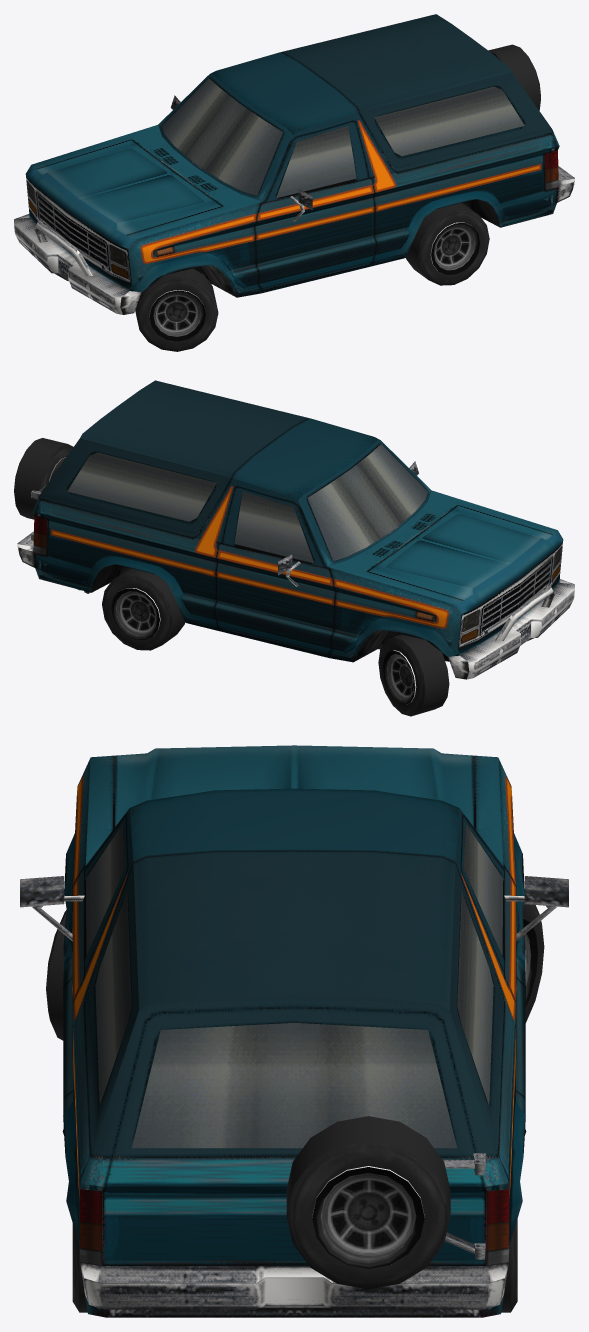
The model's file is vaquero80.glb.
3 renders of one model, top to bottom at view 1: azimuth 30°, elevation 25°; view 2: azimuth 150°, elevation 25°; view 3: azimuth 270°, elevation 25°, orthographic. The views are drawn at different scales.
Parts seen in each view (by area): view 1: body_Vaquero80_body_0, Glass_GT1_Glass_Clean_0, Hood_Vaquero80_body_0, Bumper_Front_Vaquero80_body_0, Wheel_FL_wp_tire_01_dif_0, Wheel_RL_wp_tire_01_dif_0, Wheel_FL_Rim_Sport454_0, Wheel_RL_Rim_Sport454_0, Spare_Wheel_wp_tire_01_dif_0, Bottom_gt1_Bottom_0, Bumper_rear_Vaquero80_body_0; view 2: body_Vaquero80_body_0, Glass_GT1_Glass_Clean_0, Hood_Vaquero80_body_0, Bumper_Front_Vaquero80_body_0, Wheel_FR_wp_tire_01_dif_0, Wheel_RR_wp_tire_01_dif_0, Spare_Wheel_wp_tire_01_dif_0, Wheel_RR_Rim_Sport454_0, Wheel_FR_Rim_Sport454_0, Bottom_gt1_Bottom_0; view 3: body_Vaquero80_body_0, Glass_GT1_Glass_Clean_0, Hood_Vaquero80_body_0, Bumper_rear_Vaquero80_body_0, Spare_Wheel_wp_tire_01_dif_0, Spare_Wheel_Rim_Sport454_0, Wheel_FL_wp_tire_01_dif_0, Brakelights_gt1_headlights_1_0, Wheel_FR_wp_tire_01_dif_0, Wheel_RR_wp_tire_01_dif_0, Wheel_FR_Rim_Sport454_0, Wheel_RL_wp_tire_01_dif_0.
Part boxes in pixels (x1,y1,x2,y2): body_Vaquero80_body_0: [25, 14, 559, 297]; Glass_GT1_Glass_Clean_0: [162, 78, 524, 198]; Hood_Vaquero80_body_0: [28, 139, 221, 245]; Bumper_Front_Vaquero80_body_0: [14, 214, 141, 314]; Wheel_FL_wp_tire_01_dif_0: [135, 268, 218, 351]; Wheel_RL_wp_tire_01_dif_0: [406, 203, 489, 285]; Wheel_FL_Rim_Sport454_0: [149, 290, 205, 341]; Wheel_RL_Rim_Sport454_0: [430, 222, 479, 274]; Spare_Wheel_wp_tire_01_dif_0: [488, 44, 540, 110]; Bottom_gt1_Bottom_0: [193, 199, 500, 297]; Bumper_rear_Vaquero80_body_0: [557, 166, 574, 202]; body_Vaquero80_body_0: [31, 380, 563, 662]; Glass_GT1_Glass_Clean_0: [67, 444, 427, 563]; Hood_Vaquero80_body_0: [368, 505, 560, 609]; Bumper_Front_Vaquero80_body_0: [448, 579, 574, 679]; Wheel_FR_wp_tire_01_dif_0: [378, 634, 449, 716]; Wheel_RR_wp_tire_01_dif_0: [102, 568, 185, 650]; Spare_Wheel_wp_tire_01_dif_0: [14, 438, 73, 519]; Wheel_RR_Rim_Sport454_0: [111, 588, 160, 639]; Wheel_FR_Rim_Sport454_0: [383, 650, 416, 704]; Bottom_gt1_Bottom_0: [77, 564, 449, 661]; body_Vaquero80_body_0: [20, 755, 568, 1317]; Glass_GT1_Glass_Clean_0: [85, 824, 503, 1148]; Hood_Vaquero80_body_0: [111, 745, 477, 831]; Bumper_rear_Vaquero80_body_0: [80, 1262, 508, 1309]; Spare_Wheel_wp_tire_01_dif_0: [286, 1116, 450, 1289]; Spare_Wheel_Rim_Sport454_0: [312, 1166, 424, 1268]; Wheel_FL_wp_tire_01_dif_0: [46, 910, 66, 1040]; Brakelights_gt1_headlights_1_0: [79, 1180, 509, 1224]; Wheel_FR_wp_tire_01_dif_0: [522, 901, 544, 1022]; Wheel_RR_wp_tire_01_dif_0: [501, 1219, 517, 1312]; Wheel_FR_Rim_Sport454_0: [523, 918, 537, 1007]; Wheel_RL_wp_tire_01_dif_0: [72, 1223, 87, 1312].
Bounding box in the file's own units: 4.61 × 1.71 × 2.25.
7 materials, 7 textured.
